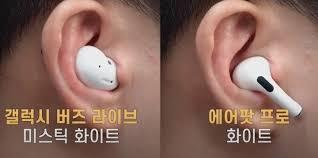earphone: (224, 53, 304, 120), (72, 45, 122, 95)
